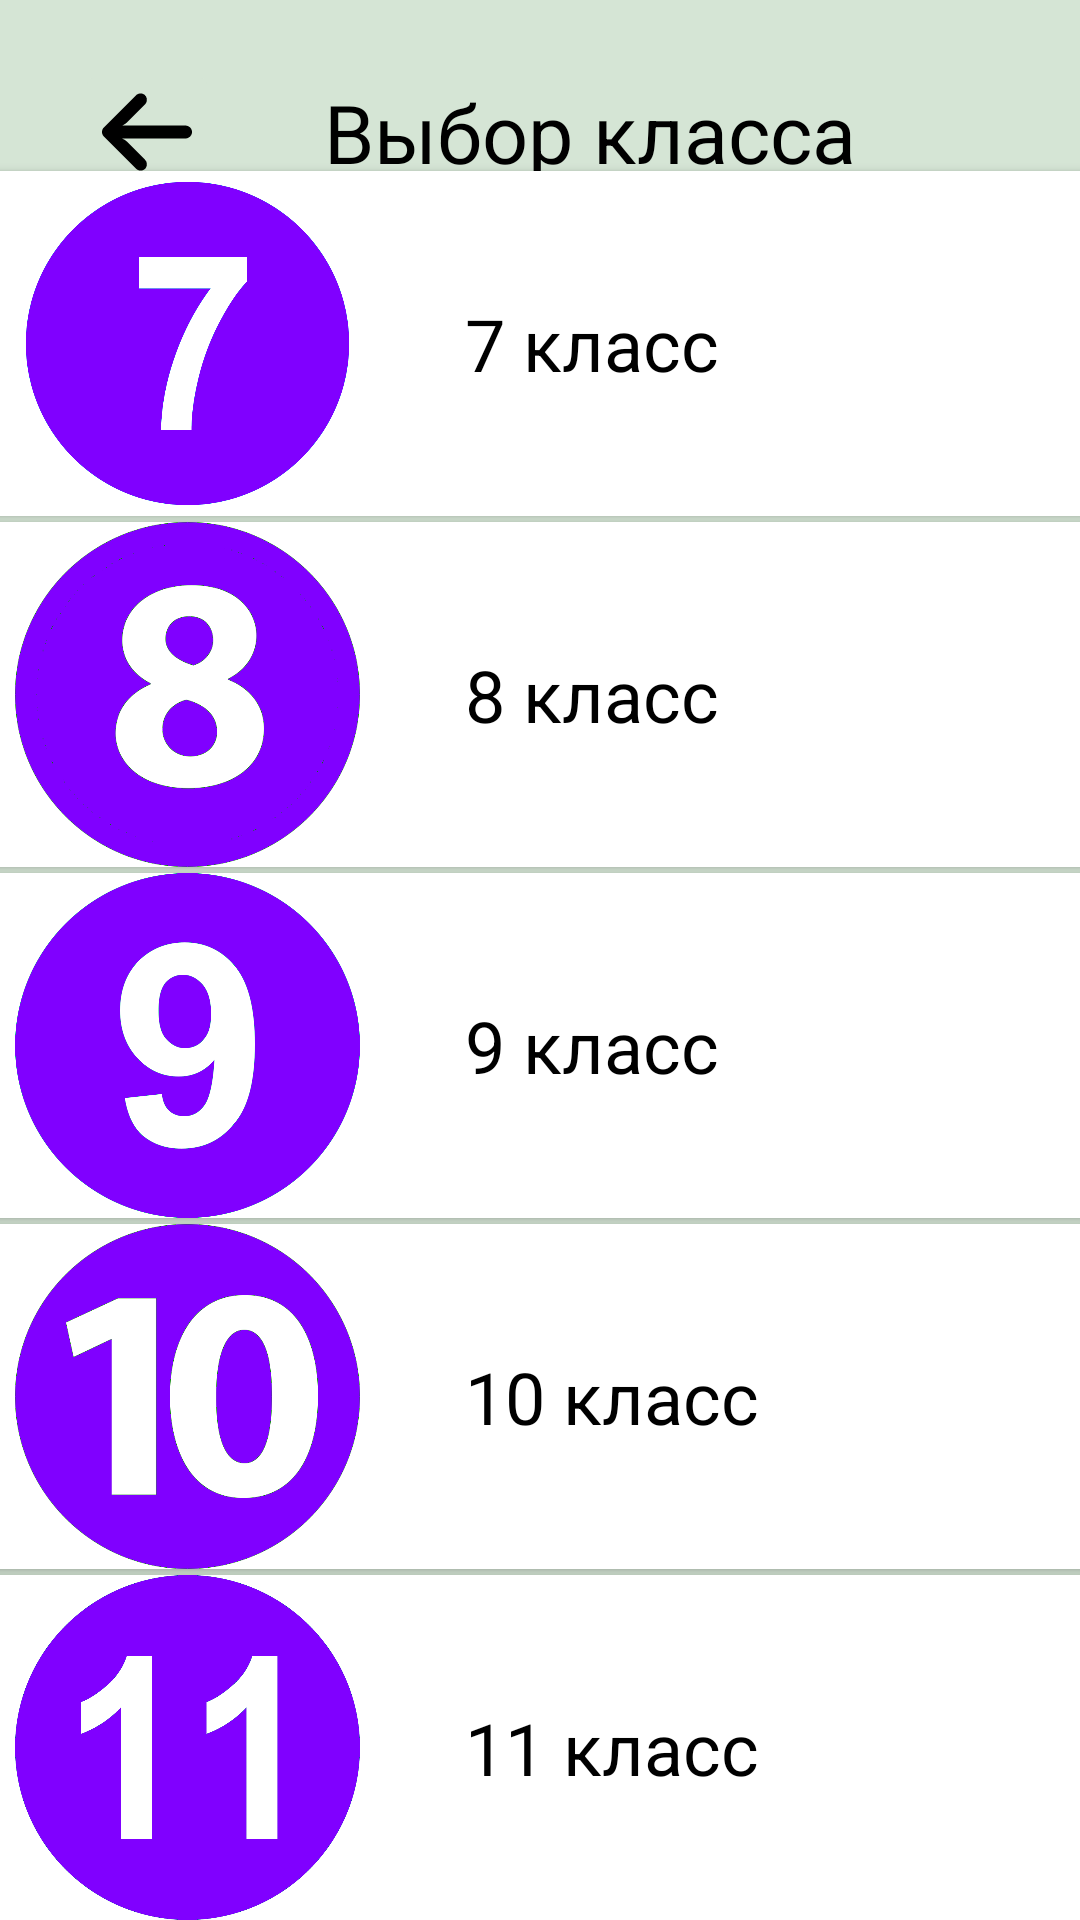

Screen size 1080 x 1920. Icon name, then its center in pixels as [x,y]:
arrow: [147,148]
